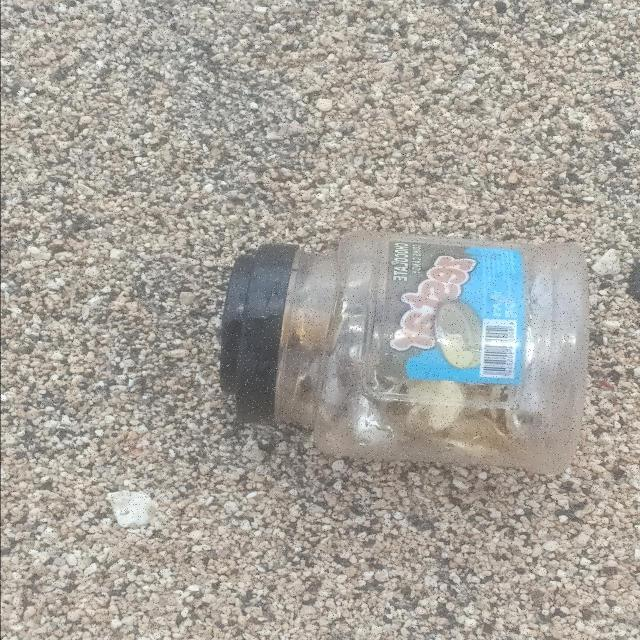plastic_waste: (220, 229, 590, 475)
